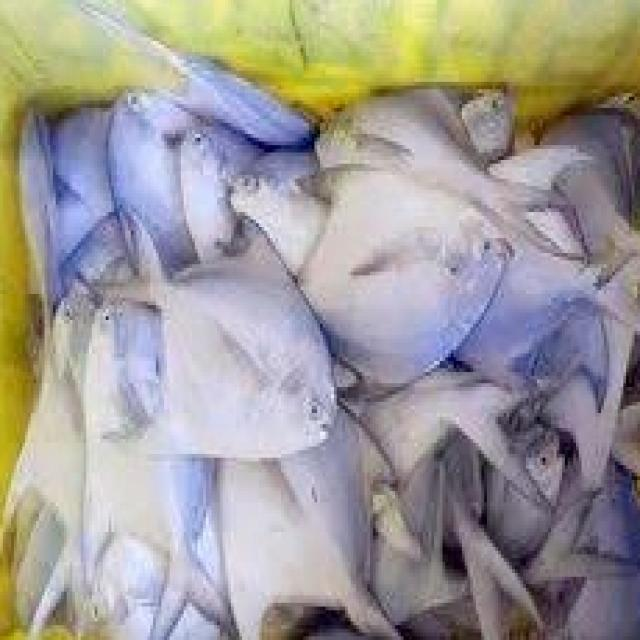pomfred: (86, 210, 335, 459)
